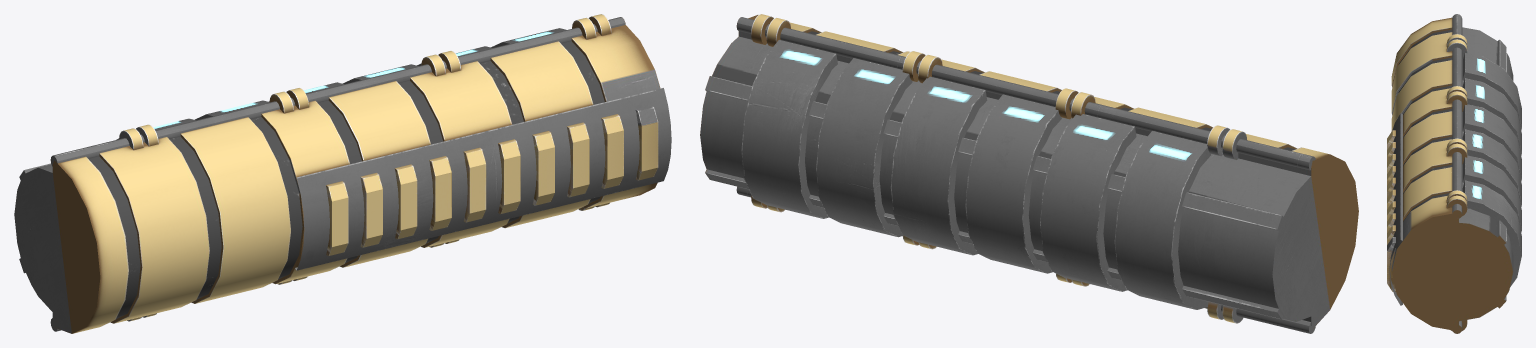
The model's file is grip_18_r_b.glb.
3 views of the same model, side by side, from view 1: azimuth 30°, elevation 25°; view 2: azimuth 150°, elevation 25°; view 3: azimuth 270°, elevation 25° (orthographic). The views are drawn at different scales.
Parts seen in each view (by area): view 1: grip_18_r_b_lod0; view 2: grip_18_r_b_lod0; view 3: grip_18_r_b_lod0.
Boxes of the visible parts, x1,y1,x2,y2 form: grip_18_r_b_lod0: (14, 14, 671, 333); grip_18_r_b_lod0: (700, 14, 1358, 333); grip_18_r_b_lod0: (1387, 14, 1521, 333).
Size of what is drawn, in the model's own units: 0.1042 by 0.033 by 0.0302.
Materials: 1 (1 with a texture image).
